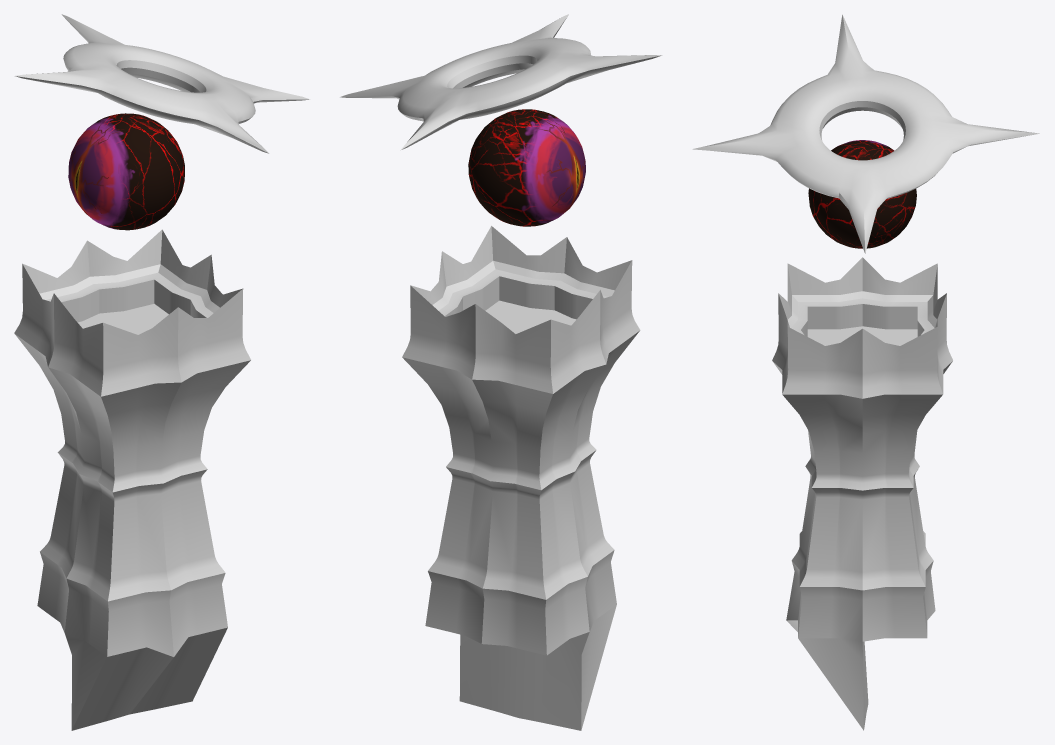
Rendered from Tower.fbx.
3 views of the same model, side by side, from view 1: azimuth 30°, elevation 25°; view 2: azimuth 150°, elevation 25°; view 3: azimuth 270°, elevation 25° (orthographic). The views are drawn at different scales.
Parts seen in each view (by area): view 1: TowerStructure, Halo, Eye; view 2: TowerStructure, Halo, Eye; view 3: TowerStructure, Halo, Eye.
Part boxes in pixels (bbox=[...]): TowerStructure: bbox=[14, 229, 250, 730]; Halo: bbox=[15, 14, 310, 153]; Eye: bbox=[68, 113, 184, 230]; TowerStructure: bbox=[402, 226, 640, 730]; Halo: bbox=[340, 14, 661, 149]; Eye: bbox=[468, 109, 585, 226]; TowerStructure: bbox=[772, 257, 952, 730]; Halo: bbox=[692, 14, 1039, 253]; Eye: bbox=[808, 140, 916, 248].
Bounding box in the file's own units: 365 × 768 × 385.
